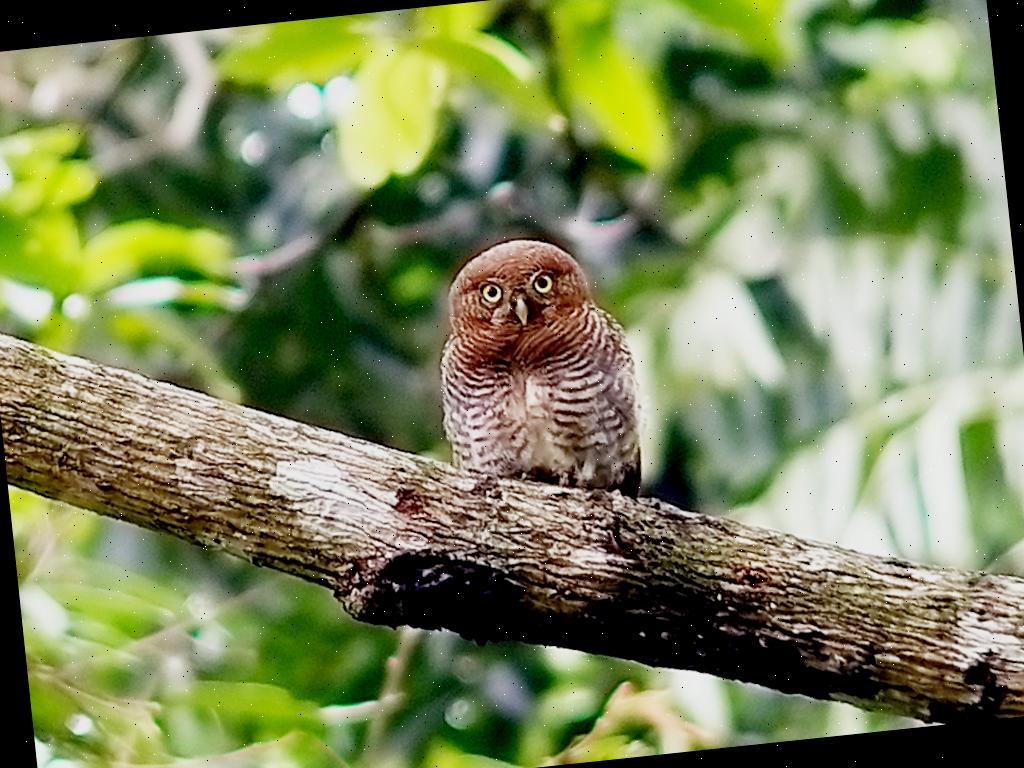Owl: (418, 228, 649, 516)
